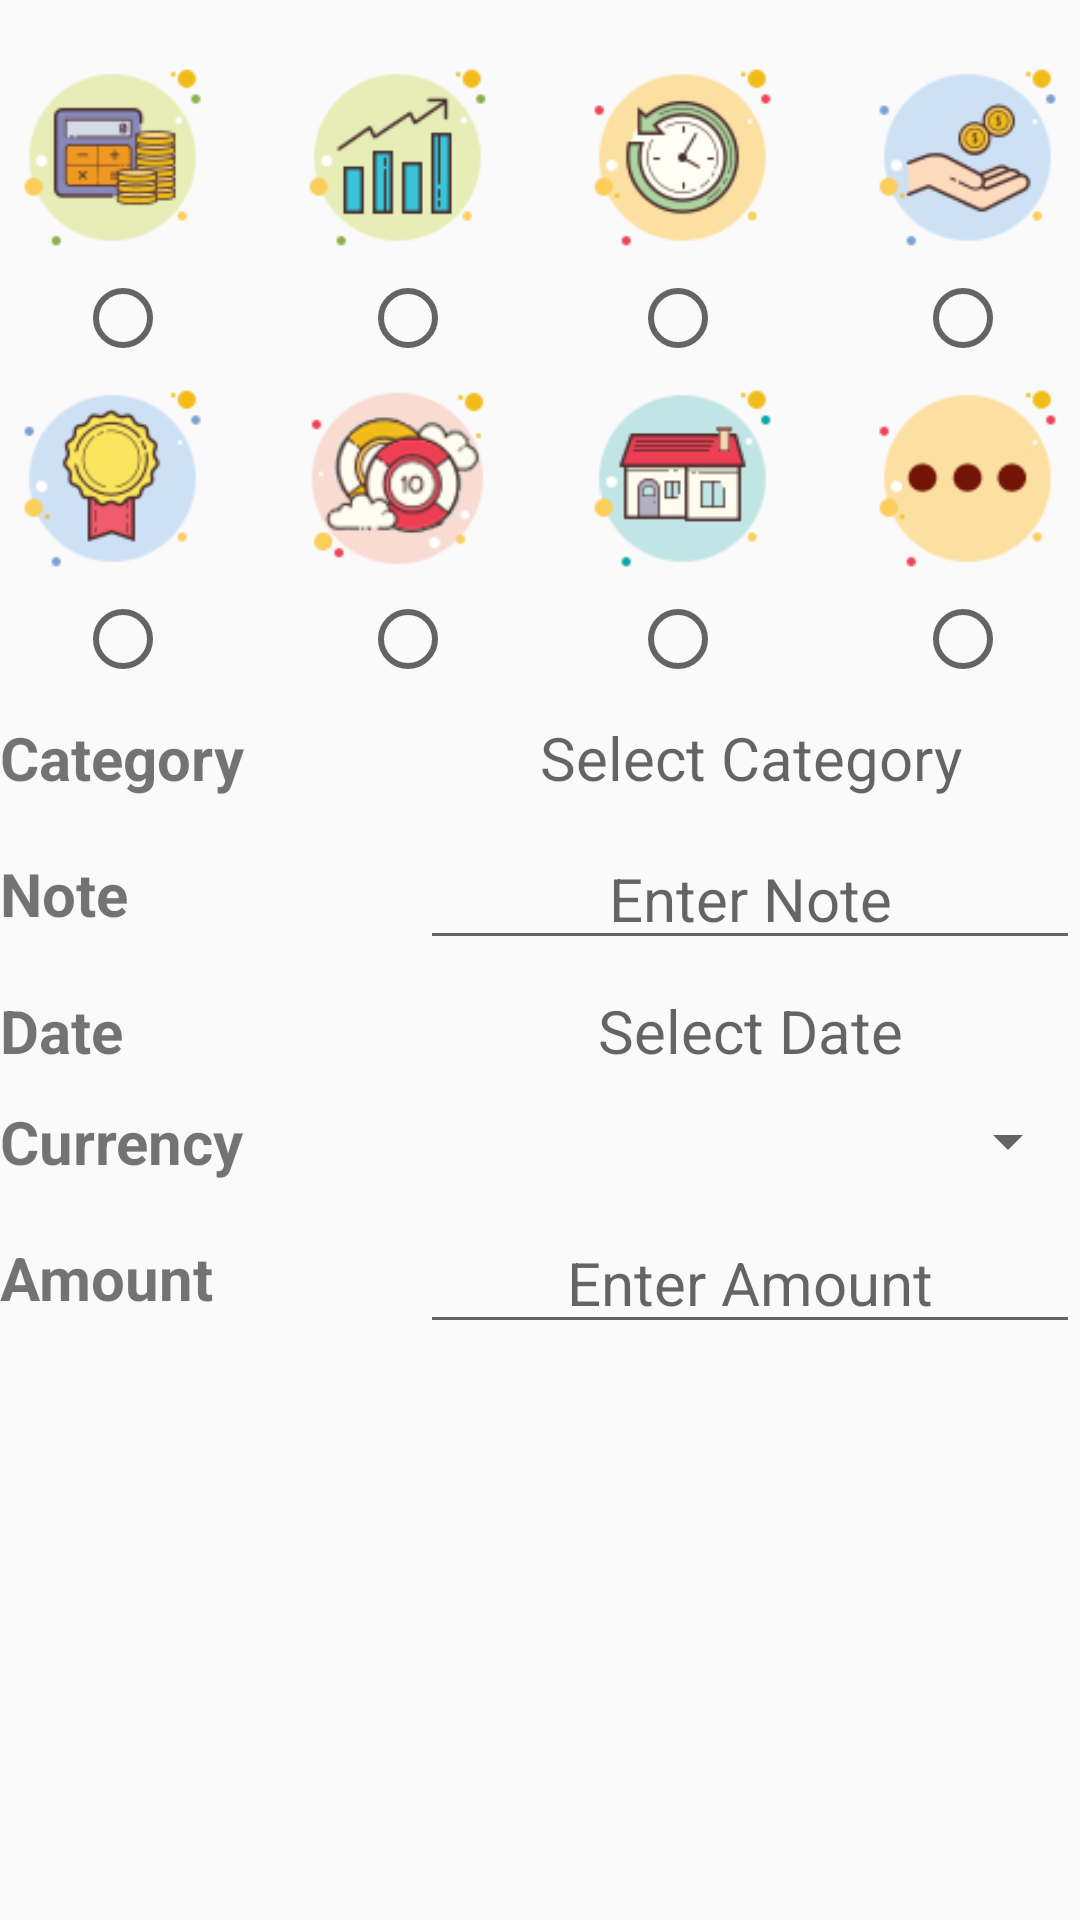

Named icons in this screenshot (1080*1920) and their centers, (x=x, y=y):
allowance: (x=967, y=157)
bonus: (x=112, y=478)
gambe: (x=397, y=478)
investment: (x=397, y=157)
other: (x=967, y=478)
parttime: (x=682, y=157)
rental: (x=682, y=478)
salary: (x=112, y=157)
